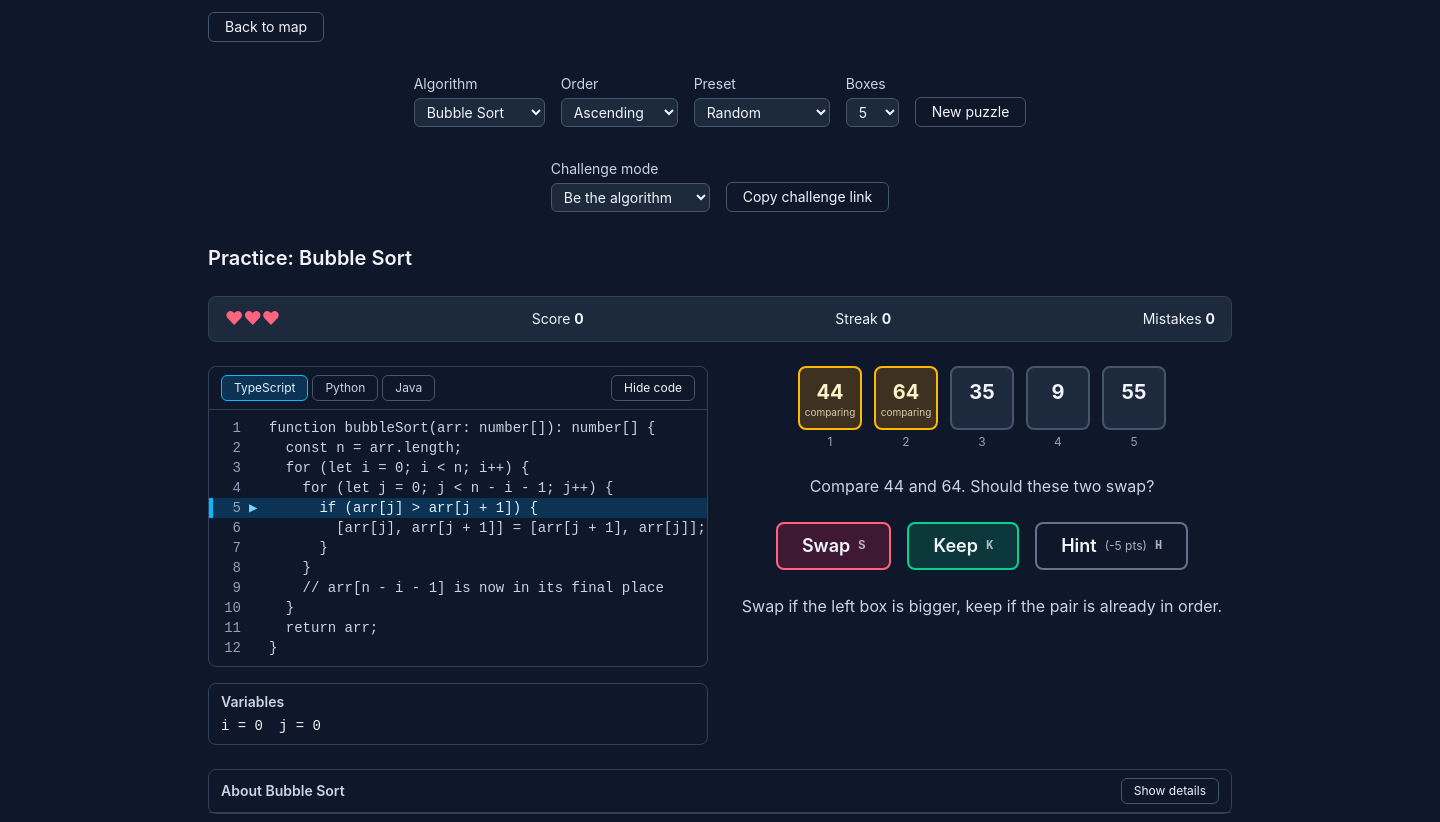
it: PracticeScreen › builds a challenge link for the current puzzle
Select "Predict" in the dropdown labelled "Challenge mode": x=630, y=198 [551,183,710,212]
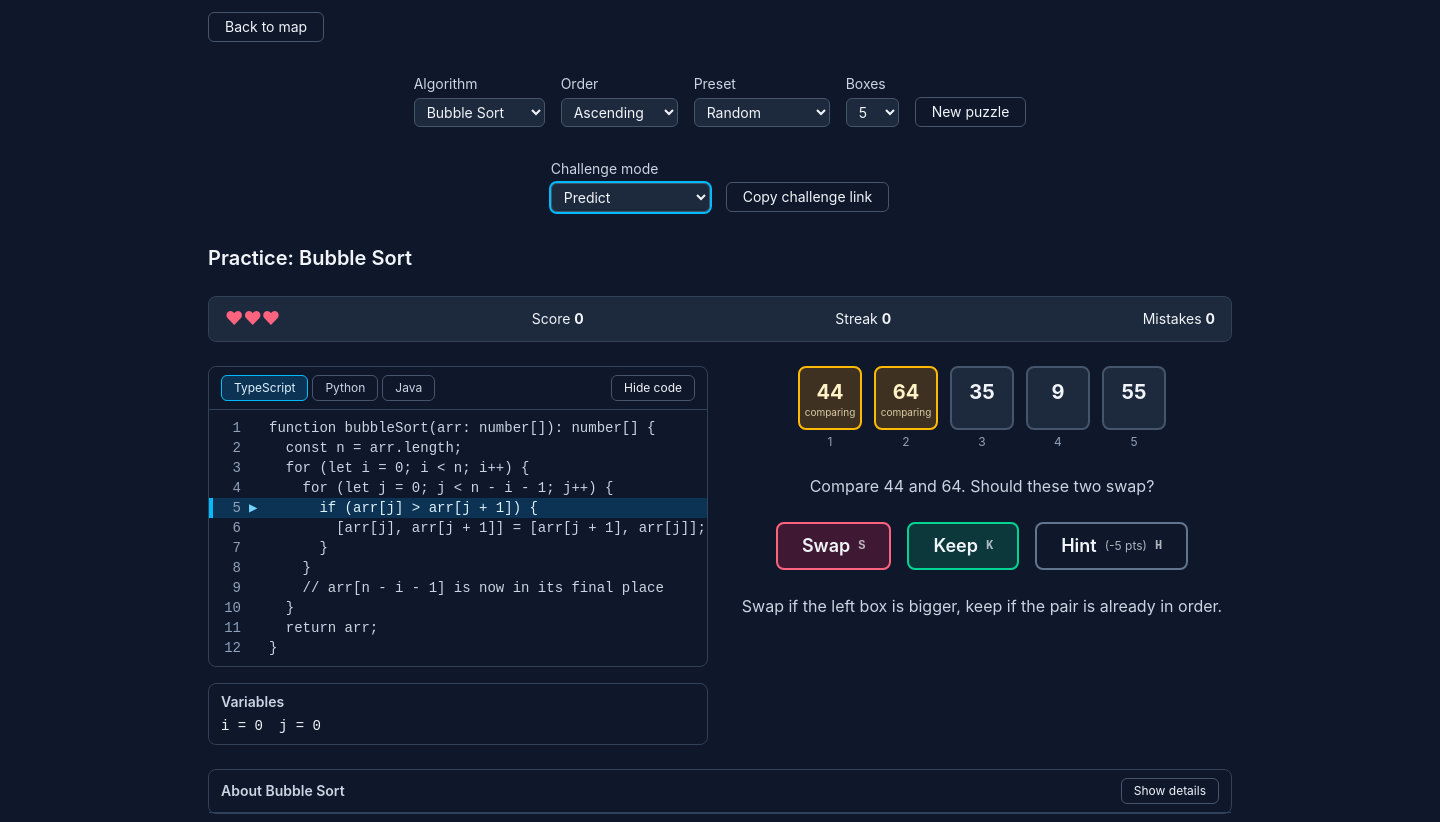
Click the button "Copy challenge link": x=808, y=197 [726,182,889,212]
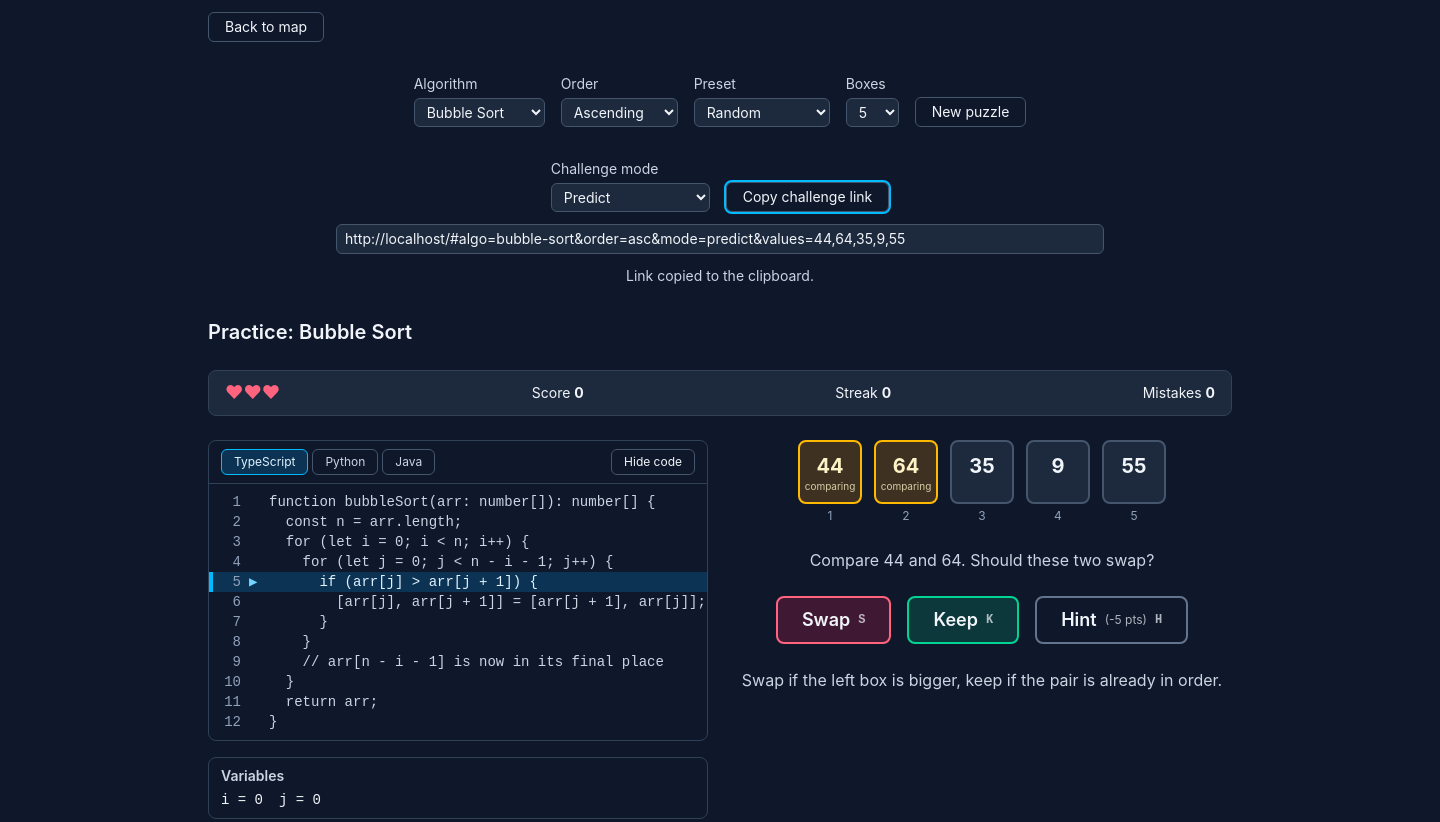
Now the message "Link copied to the clipboard." is shown, box [626,266,814,286]
